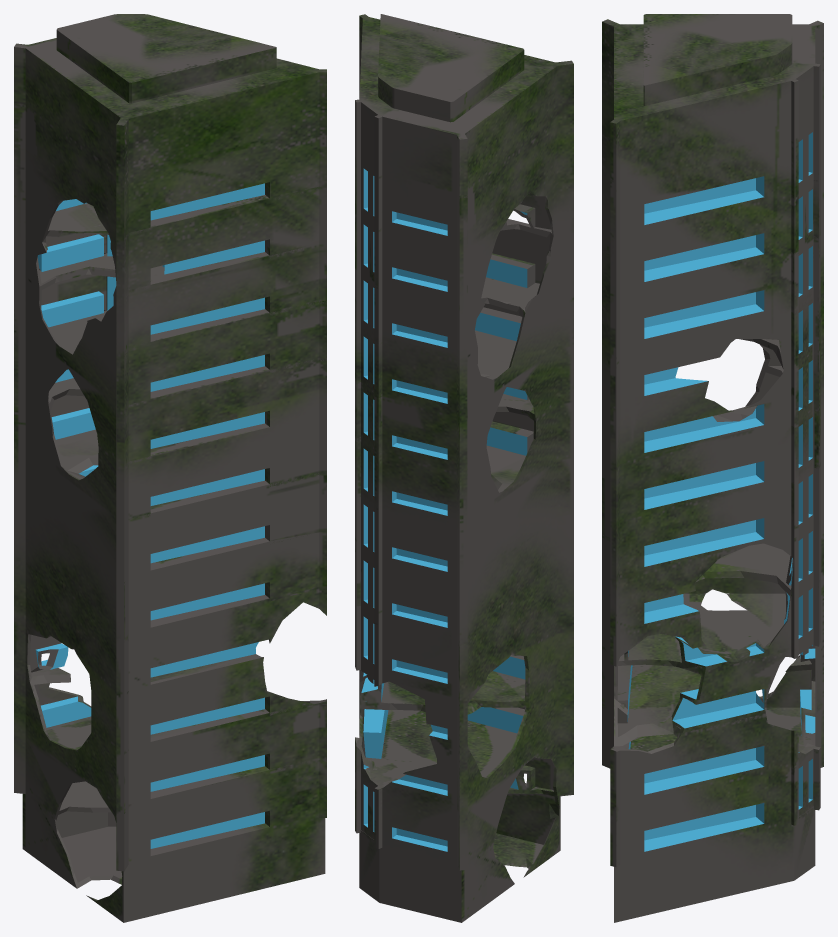
Rendered from buildings15.fbx.
3 renders of one model, left to right at view 1: azimuth 30°, elevation 25°; view 2: azimuth 150°, elevation 25°; view 3: azimuth 270°, elevation 25°, orthographic. The views are drawn at different scales.
Parts seen in each view (by area): view 1: 11; view 2: 11; view 3: 11.
Boxes of the visible parts, left/top/right/bottom form: 11: left=14, top=14, right=326, bottom=922; 11: left=355, top=14, right=573, bottom=922; 11: left=602, top=14, right=823, bottom=922.
Size of the model in its own units: 4302 by 15756 by 3858.
2 materials, 1 textured.
